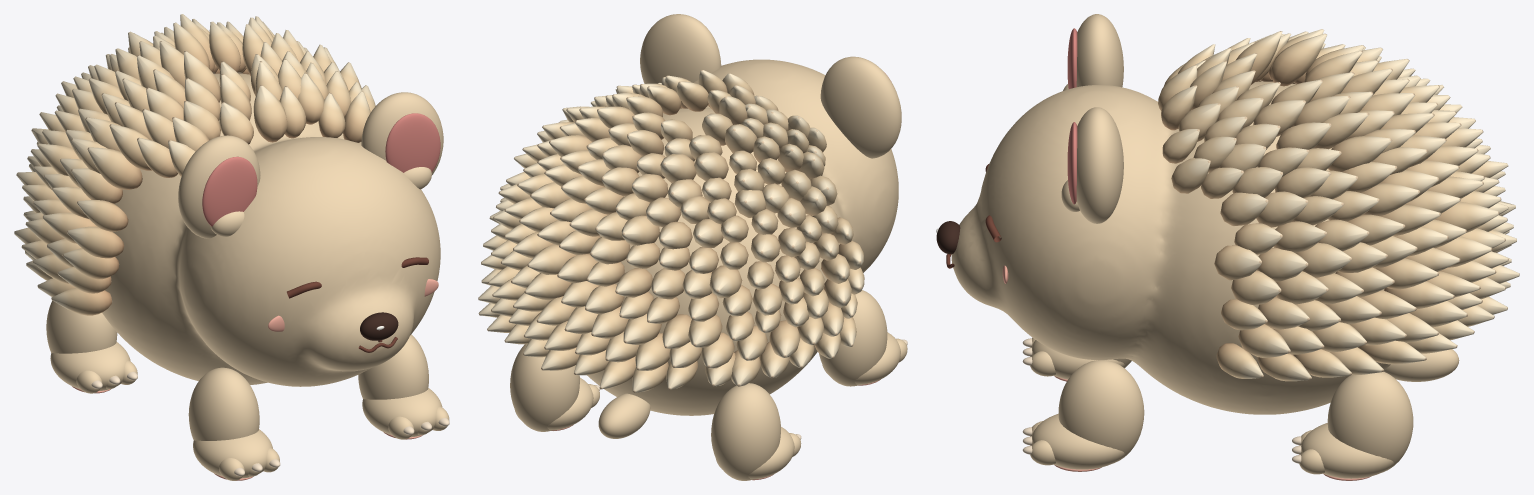
File: hedgehog-stage-02.glb
3 renders of one model, left to right at view 1: azimuth 30°, elevation 25°; view 2: azimuth 150°, elevation 25°; view 3: azimuth 270°, elevation 25°, orthographic. The views are drawn at different scales.
Visible parts, largest first — view 1: S02 • seamless sculpted body and face, S02 • 204 individually formed rounded quills, S02 • L front leg, S02 • L ear • outer rim, S02 • R front leg, S02 • L rear leg, S02 • L ear • recessed inner bowl, S02 • R ear • recessed inner bowl, S02 • R ear • outer rim, S02 • L rear paw, S02 • L front paw, S02 • R front paw (+2 smaller); view 2: S02 • 204 individually formed rounded quills, S02 • seamless sculpted body and face, S02 • L ear • outer rim, S02 • L rear leg, S02 • R ear • outer rim, S02 • R rear leg, S02 • L front leg, S02 • small tail, S02 • R rear paw, S02 • L rear paw, S02 • L front paw; view 3: S02 • 204 individually formed rounded quills, S02 • seamless sculpted body and face, S02 • R front leg, S02 • R rear leg, S02 • R ear • outer rim, S02 • L ear • outer rim, S02 • R rear paw, S02 • R front paw, S02 • small tail, S02 • L front paw, S02 • R ear • recessed inner bowl, S02 • heartlike button nose.
Part boxes in pixels (bbox=[...]): S02 • seamless sculpted body and face: bbox=[102, 73, 440, 386]; S02 • 204 individually formed rounded quills: bbox=[14, 14, 375, 315]; S02 • L front leg: bbox=[188, 367, 259, 440]; S02 • L ear • outer rim: bbox=[178, 135, 260, 238]; S02 • R front leg: bbox=[358, 334, 428, 399]; S02 • L rear leg: bbox=[46, 301, 117, 353]; S02 • L ear • recessed inner bowl: bbox=[202, 156, 257, 226]; S02 • R ear • recessed inner bowl: bbox=[385, 113, 440, 172]; S02 • R ear • outer rim: bbox=[361, 92, 443, 174]; S02 • L rear paw: bbox=[50, 342, 130, 391]; S02 • L front paw: bbox=[193, 429, 272, 478]; S02 • R front paw: bbox=[362, 388, 442, 437]; S02 • 204 individually formed rounded quills: bbox=[478, 70, 864, 392]; S02 • seamless sculpted body and face: bbox=[587, 59, 898, 415]; S02 • L ear • outer rim: bbox=[820, 56, 901, 158]; S02 • L rear leg: bbox=[711, 383, 780, 480]; S02 • R ear • outer rim: bbox=[640, 14, 721, 83]; S02 • R rear leg: bbox=[510, 344, 579, 431]; S02 • L front leg: bbox=[819, 290, 887, 386]; S02 • small tail: bbox=[598, 393, 650, 438]; S02 • R rear paw: bbox=[515, 377, 593, 430]; S02 • L rear paw: bbox=[716, 427, 794, 479]; S02 • L front paw: bbox=[822, 332, 900, 384]; S02 • 204 individually formed rounded quills: bbox=[1158, 29, 1519, 381]; S02 • seamless sculpted body and face: bbox=[951, 81, 1390, 414]; S02 • R front leg: bbox=[1058, 360, 1144, 463]; S02 • R rear leg: bbox=[1327, 371, 1413, 472]; S02 • R ear • outer rim: bbox=[1076, 107, 1123, 223]; S02 • L ear • outer rim: bbox=[1076, 14, 1123, 87]; S02 • R rear paw: bbox=[1301, 423, 1394, 478]; S02 • R front paw: bbox=[1032, 413, 1125, 469]; S02 • small tail: bbox=[1383, 349, 1459, 381]; S02 • L front paw: bbox=[1032, 340, 1125, 379]; S02 • R ear • recessed inner bowl: bbox=[1067, 122, 1077, 204]; S02 • heartlike button nose: bbox=[936, 221, 960, 254].
Size of the model in its own units: 1.18 by 1.1 by 1.58.
Materials: 8 (8 with a texture image).
